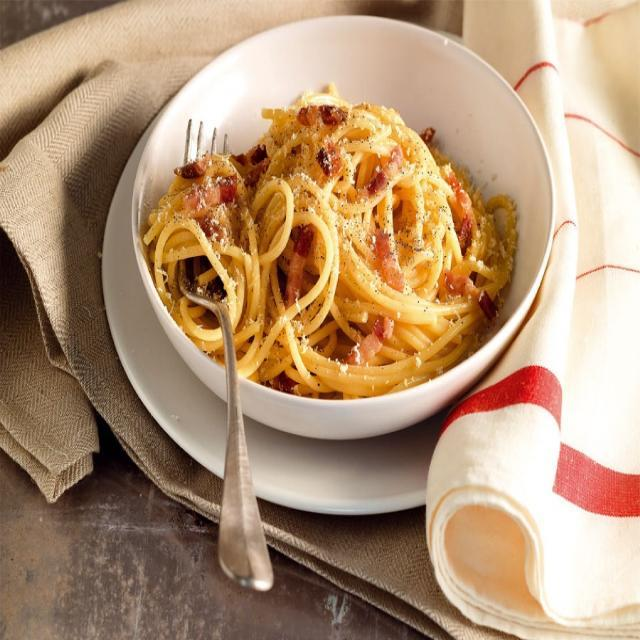Pasta with carbonara sauce: (153, 60, 605, 434)
